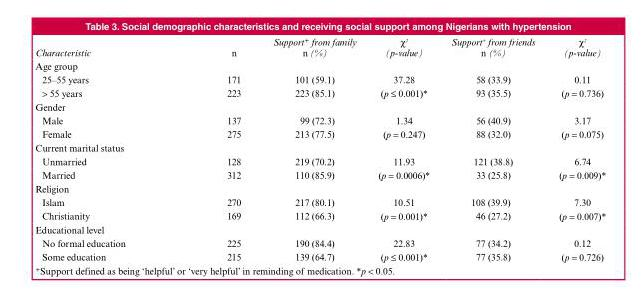table: (34, 34, 605, 262)
table column: (34, 34, 175, 262), (256, 34, 366, 262), (439, 34, 546, 262), (175, 34, 256, 262), (366, 34, 439, 262), (546, 34, 605, 262)
table column header: (34, 34, 605, 58)
table projected row header: (34, 58, 605, 72), (34, 99, 605, 113), (34, 140, 605, 154), (34, 181, 605, 195), (34, 222, 605, 236)
table row: (34, 34, 605, 58), (34, 58, 605, 72), (34, 85, 605, 99), (34, 99, 605, 113), (34, 126, 605, 140), (34, 140, 605, 154), (34, 167, 605, 181), (34, 181, 605, 195), (34, 208, 605, 222), (34, 222, 605, 236), (34, 72, 605, 85), (34, 113, 605, 126), (34, 154, 605, 167), (34, 195, 605, 208), (34, 236, 605, 249), (34, 249, 605, 262)
